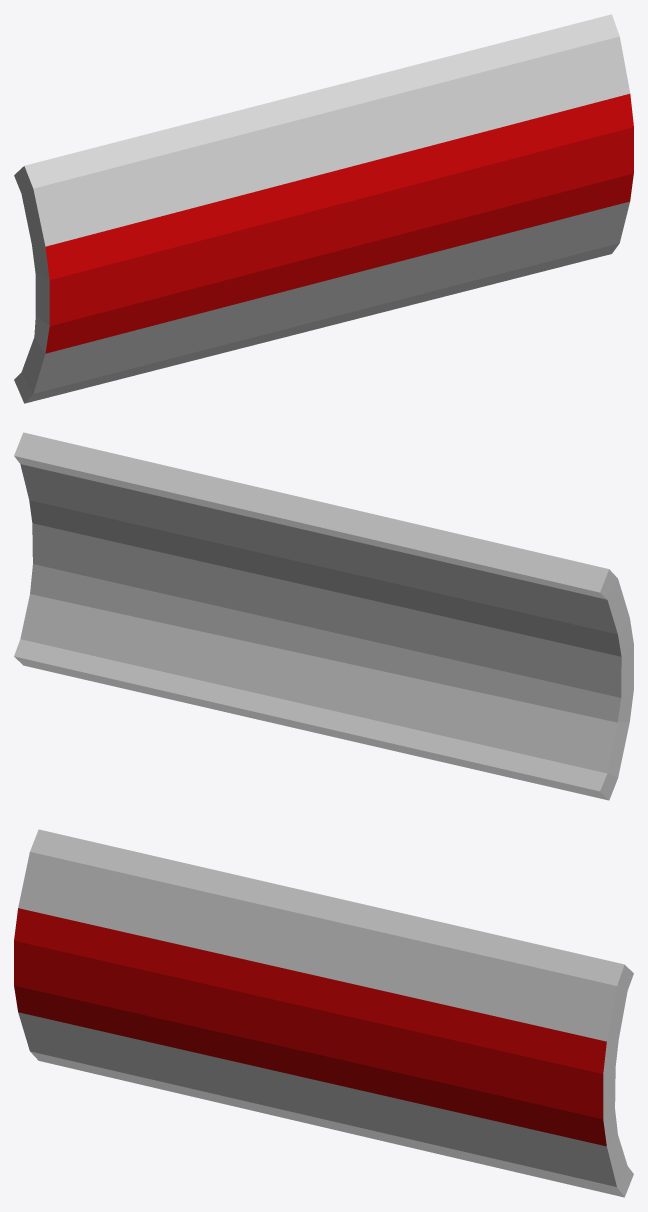
The model's file is SB Nacelle Front Hatch anim.fbx.
3 renders of one model, top to bottom at view 1: azimuth 30°, elevation 25°; view 2: azimuth 150°, elevation 25°; view 3: azimuth 330°, elevation 25°, orthographic. The views are drawn at different scales.
Visible parts, largest first — view 1: Stbd Nacelle Front Hatch; view 2: Stbd Nacelle Front Hatch; view 3: Stbd Nacelle Front Hatch.
Boxes of the visible parts, x1,y1,x2,y2 form: Stbd Nacelle Front Hatch: (14,14,633,403); Stbd Nacelle Front Hatch: (14,432,633,800); Stbd Nacelle Front Hatch: (14,829,633,1197).
Size of the model in its own units: 127 by 48.72 by 15.76.
